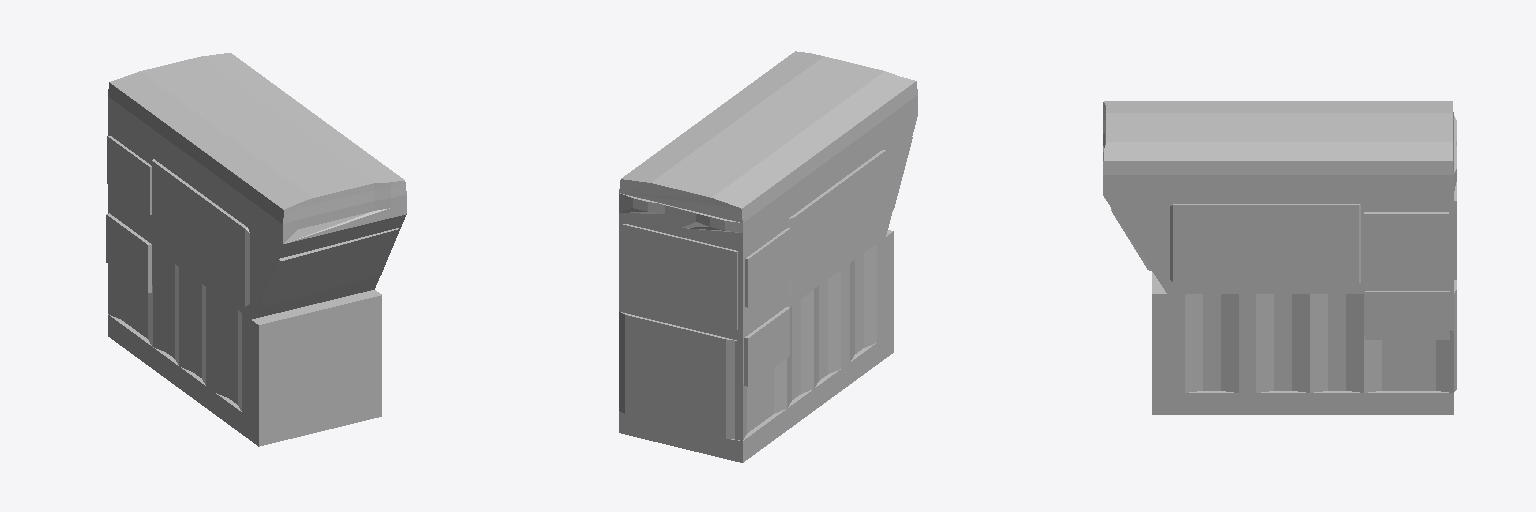
File: portagem.obj
The picture shows the model from 3 angles: view 1: azimuth 30°, elevation 25°; view 2: azimuth 150°, elevation 25°; view 3: azimuth 270°, elevation 25°; orthographic projection.
Visible parts, largest first — view 1: Cube, Cube.001, Cube.004; view 2: Cube, Cube.002, Cube.001; view 3: Cube, Cube.003.
Part boxes in pixels (bbox=[...]): Cube: bbox=[106, 53, 406, 446]; Cube.001: bbox=[152, 161, 244, 306]; Cube.004: bbox=[264, 229, 398, 306]; Cube: bbox=[619, 51, 917, 462]; Cube.002: bbox=[623, 225, 736, 330]; Cube.001: bbox=[793, 151, 885, 296]; Cube: bbox=[1103, 101, 1456, 414]; Cube.003: bbox=[1173, 205, 1358, 282].
Size of the model in its own units: 1.54 by 2.91 by 3.63.